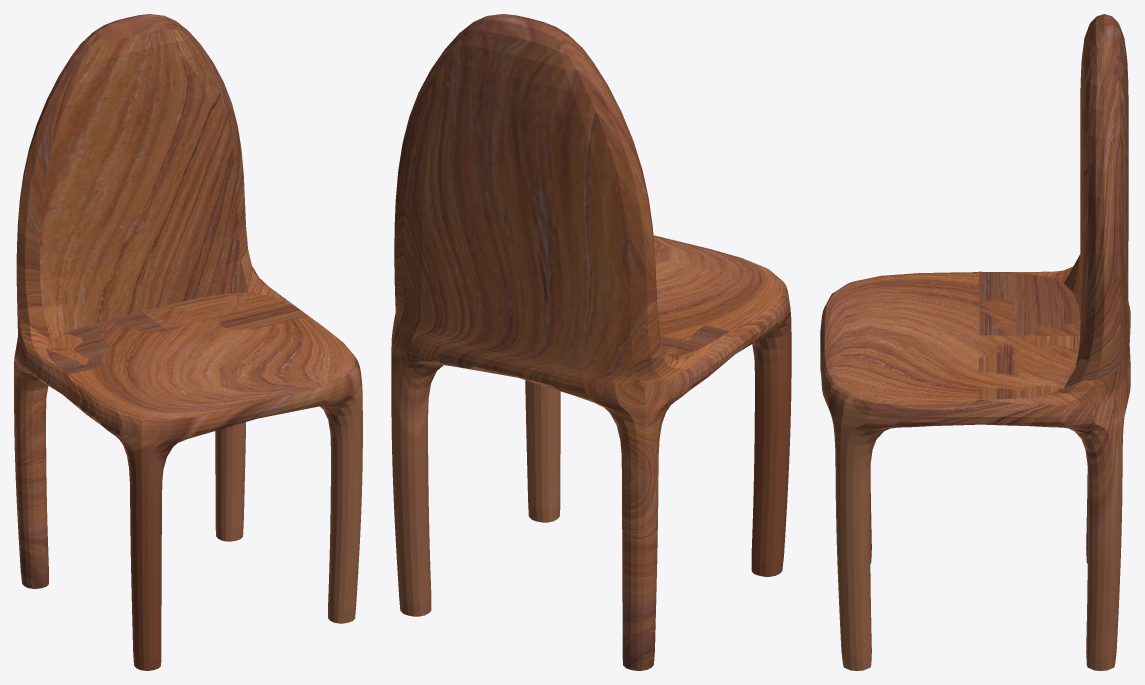
The model's file is chair.gltf.
3 renders of one model, left to right at view 1: azimuth 30°, elevation 25°; view 2: azimuth 150°, elevation 25°; view 3: azimuth 270°, elevation 25°, orthographic. The views are drawn at different scales.
Parts seen in each view (by area): view 1: Cube; view 2: Cube; view 3: Cube.
Part boxes in pixels (x1,y1,x2,y2): Cube: [14, 14, 362, 670]; Cube: [391, 14, 791, 670]; Cube: [820, 14, 1130, 670].
Bounding box in the file's own units: 2.23 × 4.56 × 2.17.
1 material, 1 textured.
